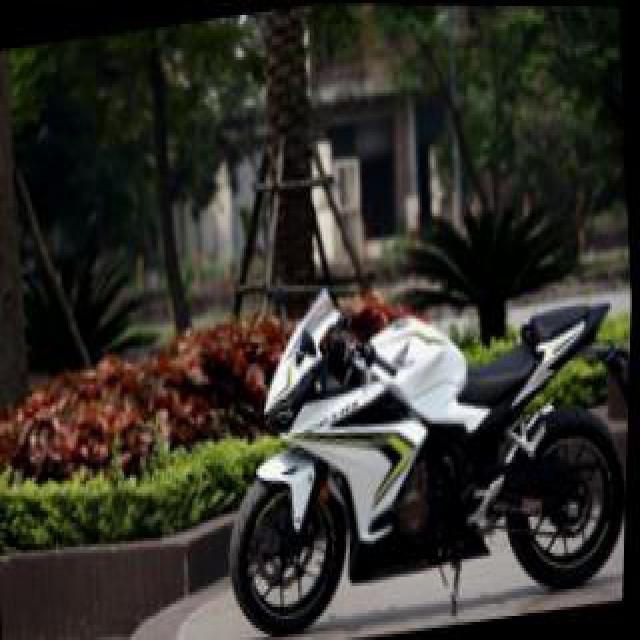CBR500R: (220, 234, 634, 637)
